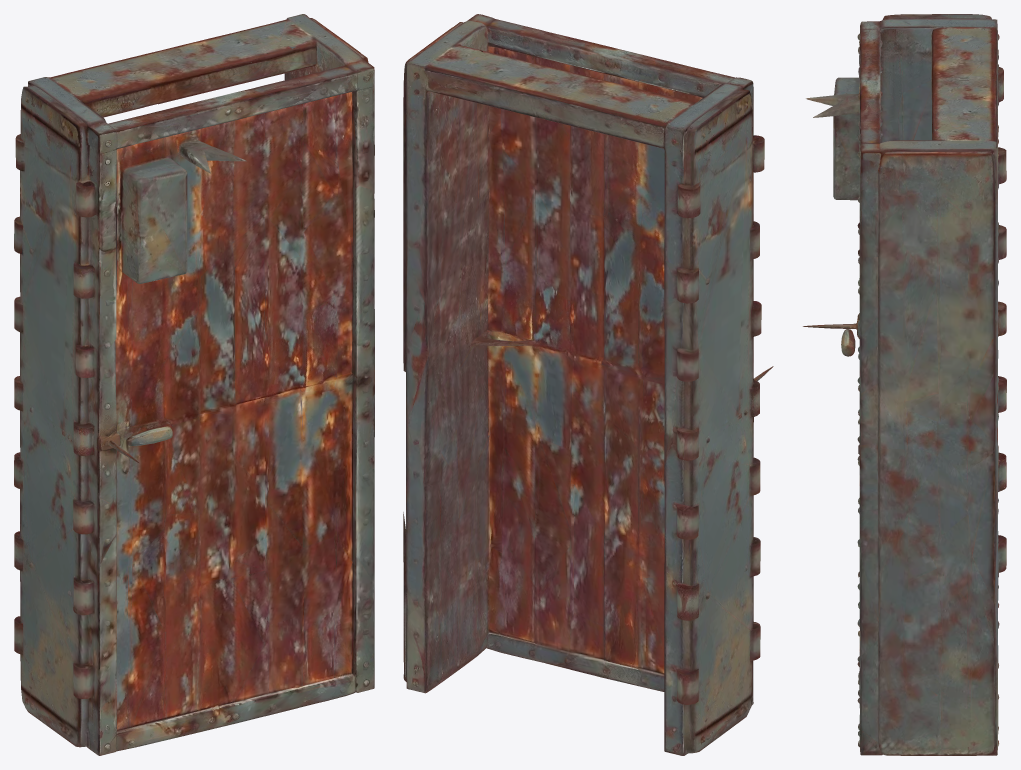
The model's file is bb_door_metal.glb.
3 renders of one model, left to right at view 1: azimuth 30°, elevation 25°; view 2: azimuth 150°, elevation 25°; view 3: azimuth 270°, elevation 25°, orthographic. The views are drawn at different scales.
Visible parts, largest first — view 1: bb_door_metal; view 2: bb_door_metal; view 3: bb_door_metal.
Part boxes in pixels (x1,y1,x2,y2): bb_door_metal: [14, 14, 374, 755]; bb_door_metal: [403, 14, 773, 755]; bb_door_metal: [803, 14, 1006, 755].
Size of the model in its own units: 0.9426 by 1.9 by 0.5784.
1 material, 1 textured.
